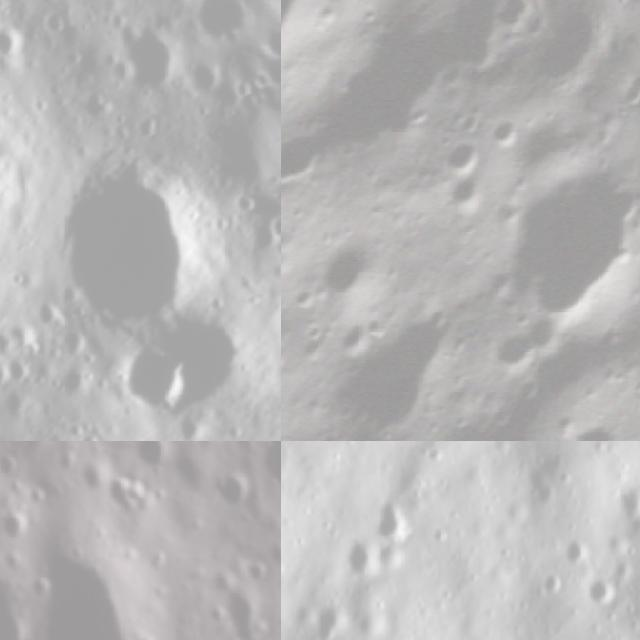crater: (479, 144, 640, 331), (312, 274, 478, 441), (34, 519, 171, 640), (470, 290, 568, 395), (281, 94, 347, 221), (427, 114, 499, 190), (480, 93, 548, 166), (0, 531, 38, 640), (438, 162, 502, 226), (584, 68, 640, 131), (109, 461, 155, 528), (210, 459, 256, 519), (365, 493, 413, 545), (338, 533, 383, 584), (580, 565, 622, 612), (306, 595, 349, 640), (554, 528, 593, 569), (0, 505, 39, 545), (137, 441, 180, 468), (260, 441, 281, 496), (0, 443, 26, 483), (535, 562, 564, 596)
